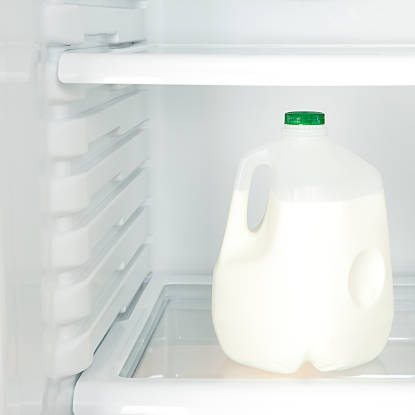milk: (209, 111, 399, 374)
